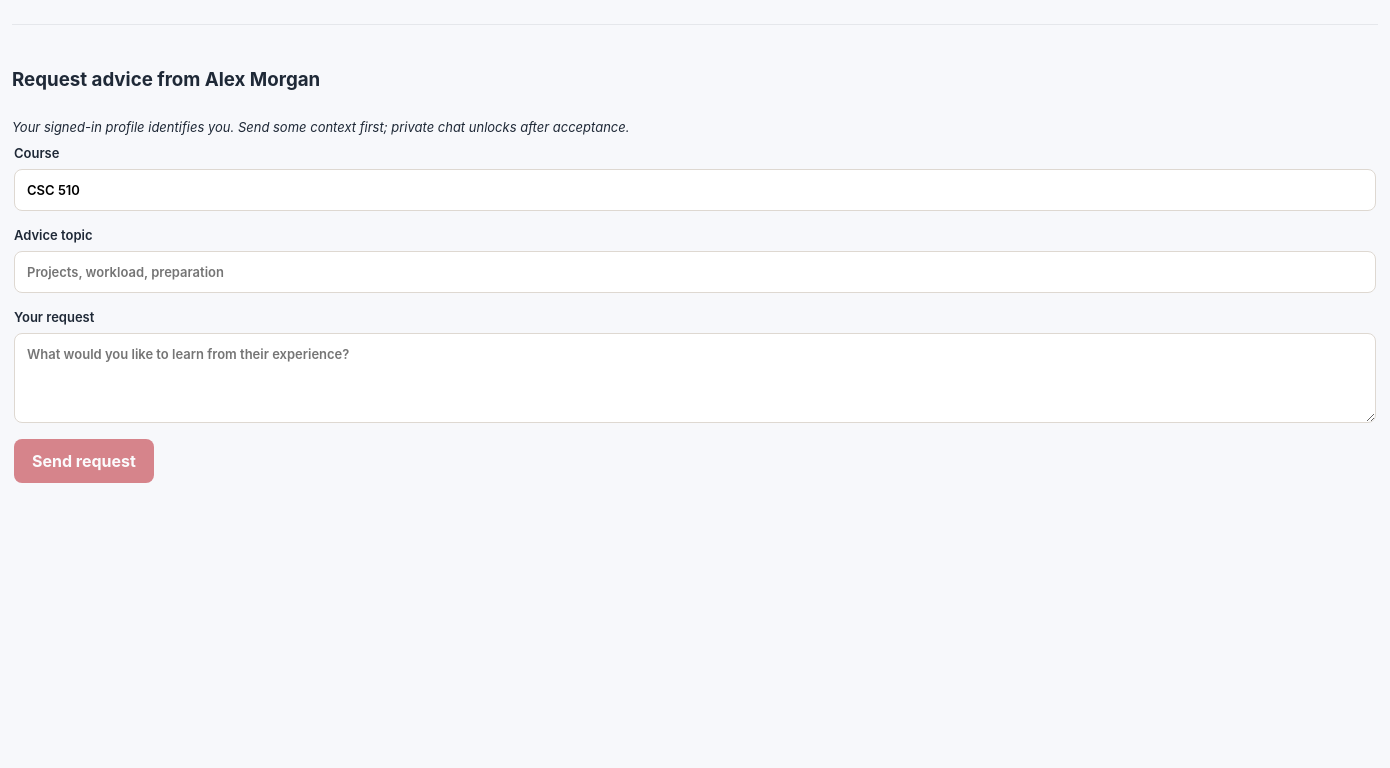
persistent advice requests › preserves the message on failure and allows retry
The image size is (1390, 768).
In the field labelled "Advice topic": (695, 272) [14,251,1376,293], type "Projects"
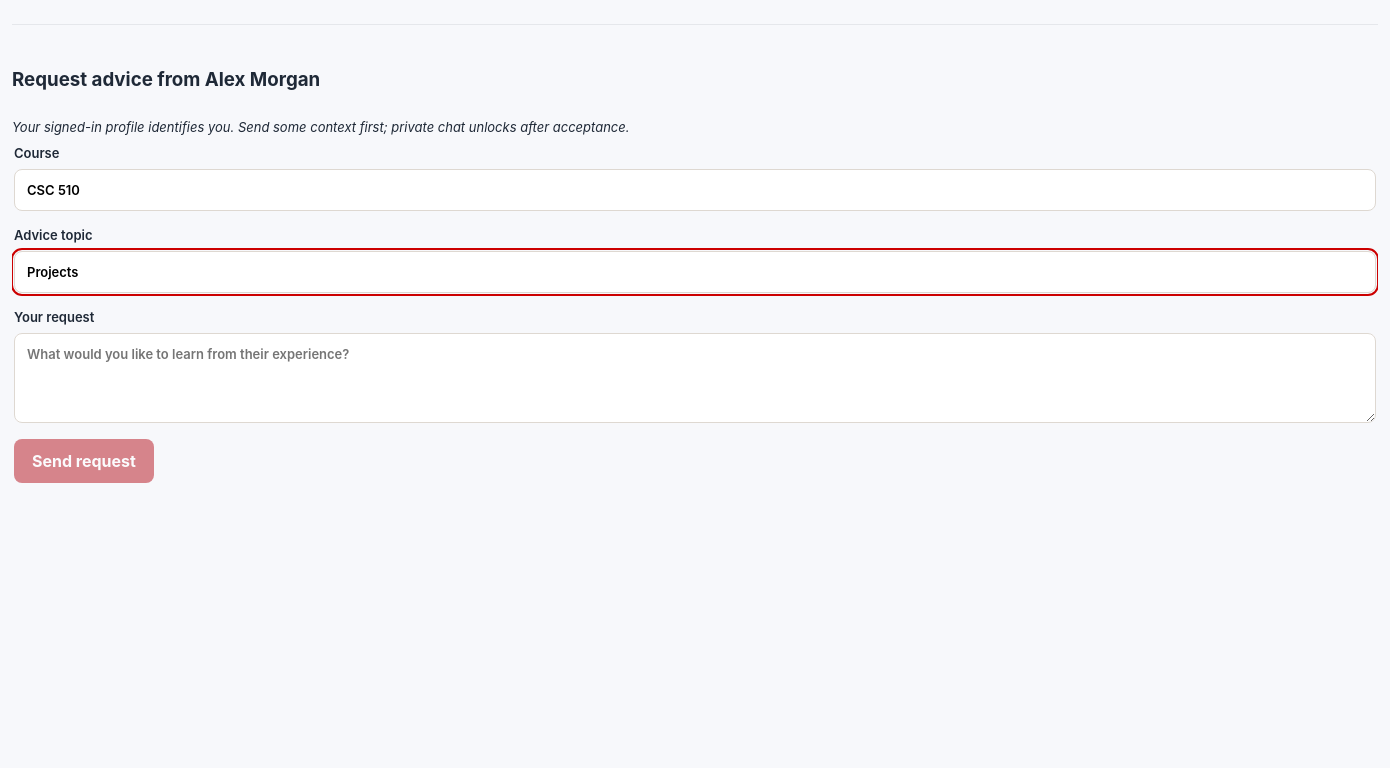
In the text box labelled "Your request": (695, 378) [14,333,1376,423], type "How should I prepare?"
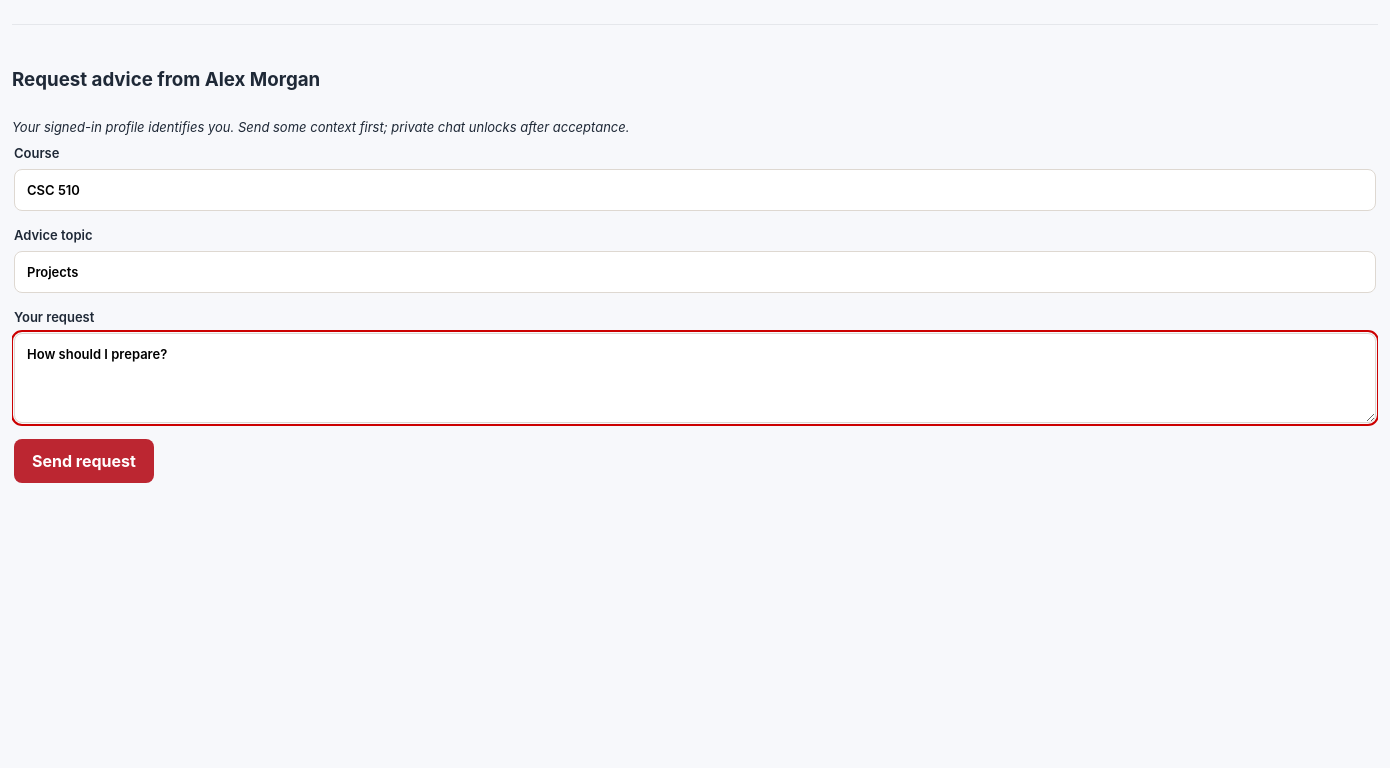
Click the button "Send request": (84, 461) [14,439,154,483]
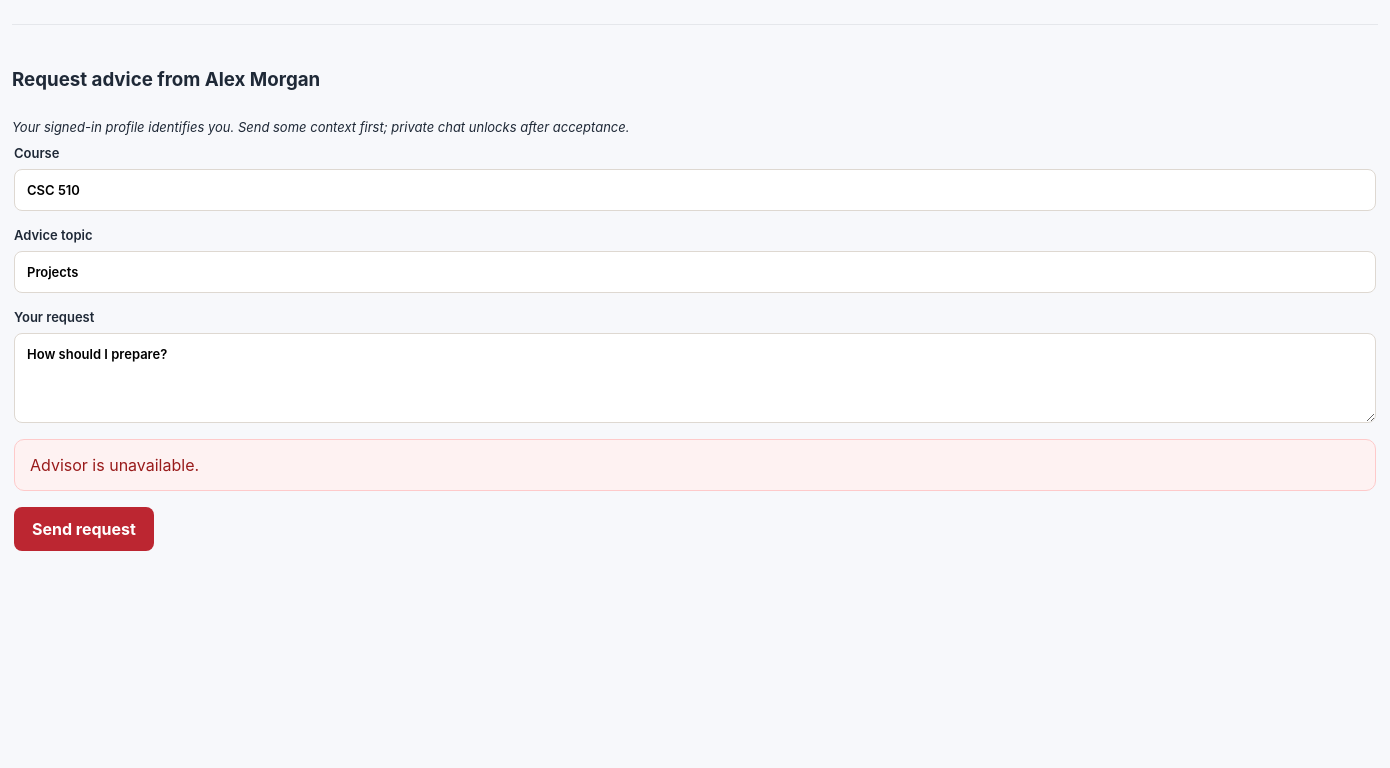
Now the message reads "Advisor is unavailable.", box [30,455,199,475]
Click the button "Send request": (84, 529) [14,507,154,551]
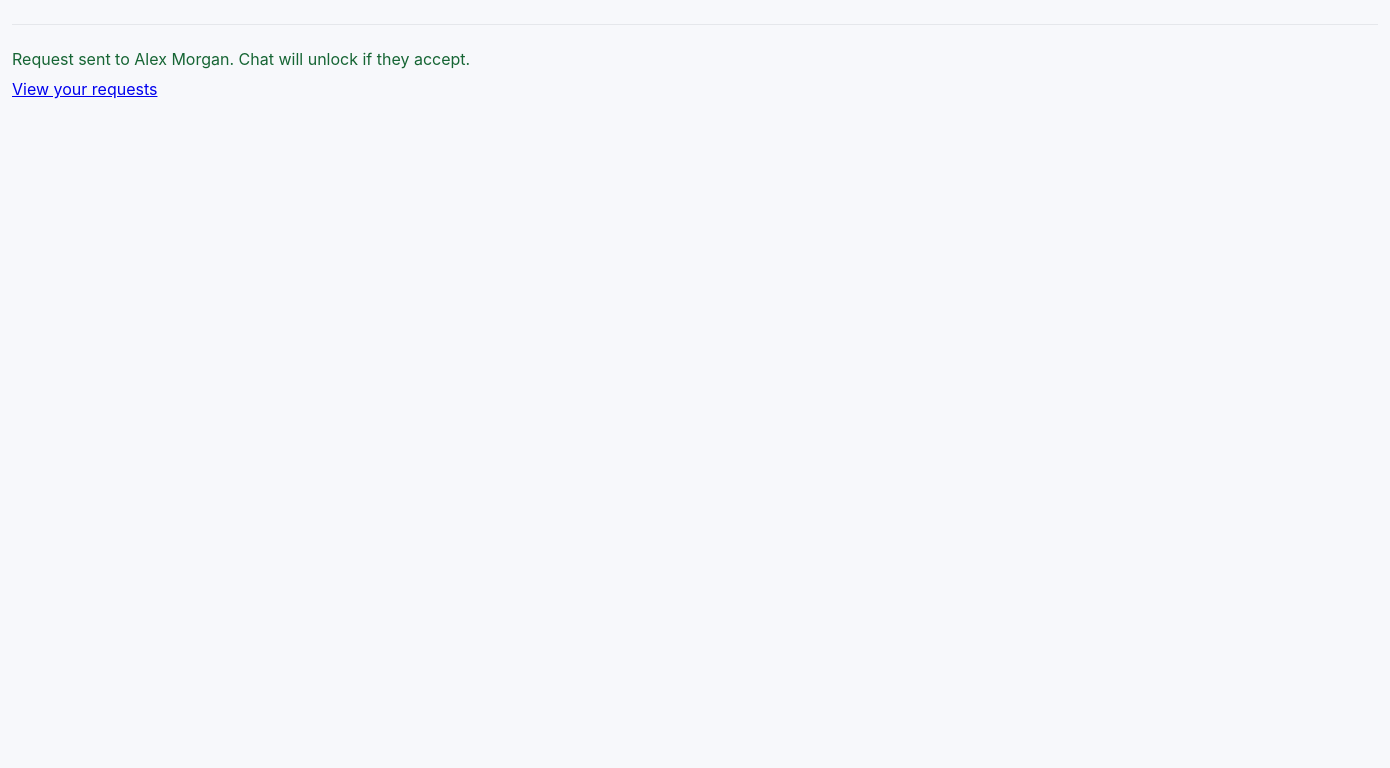
Now the message shows "Request sent", box [12,49,134,69]
